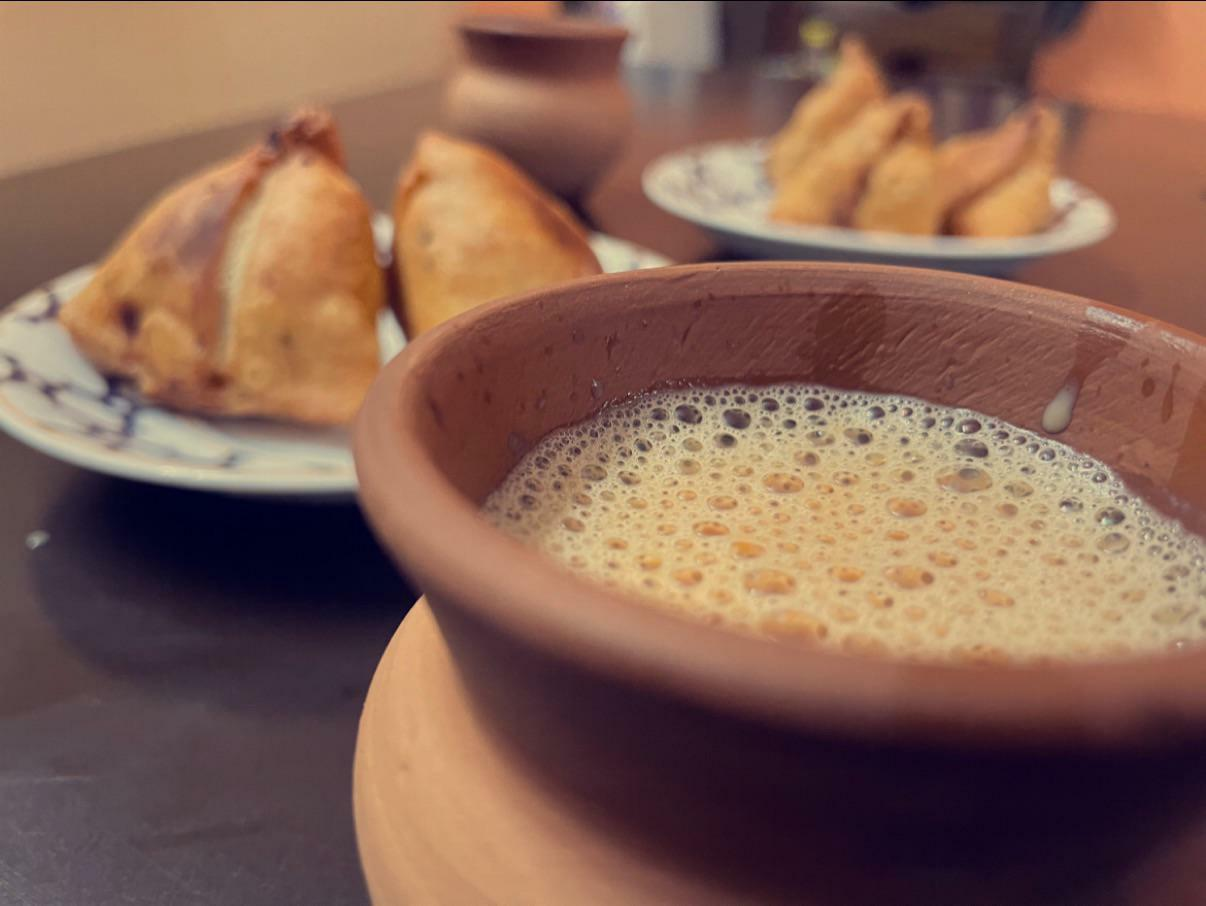Chai: (486, 374, 1206, 693)
Samosa: (60, 103, 396, 428), (388, 130, 605, 346), (860, 100, 1071, 237), (766, 85, 940, 226), (761, 34, 890, 183)
